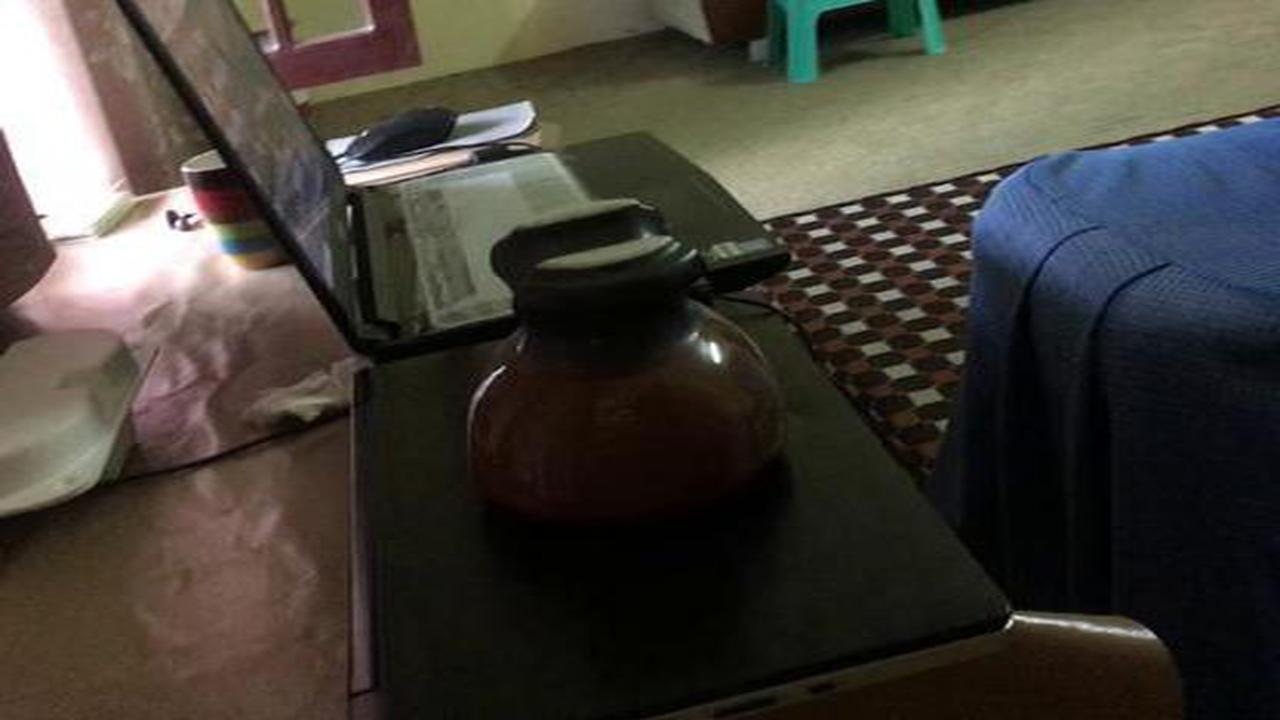insulator_pin: (440, 189, 819, 556)
